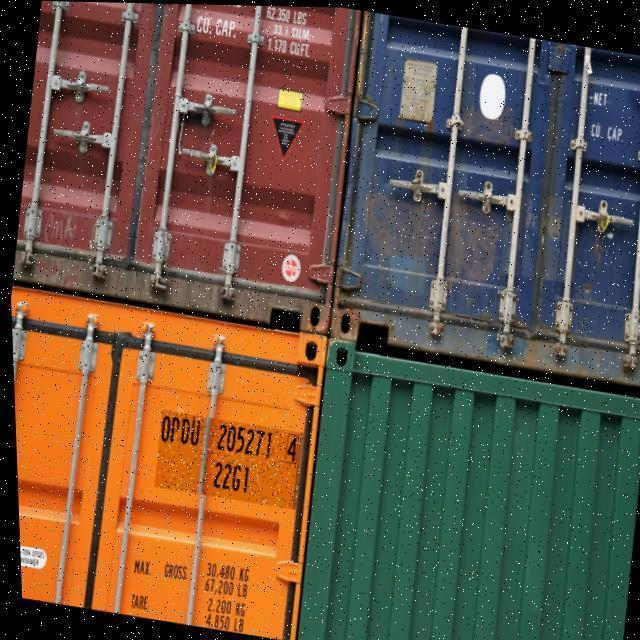ISO: (214, 456, 256, 495)
container_number: (143, 408, 313, 460)
